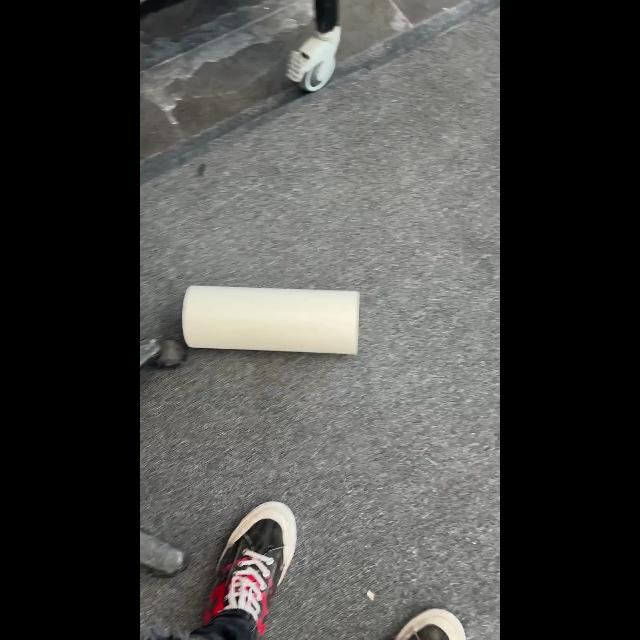CORAL: (180, 284, 360, 356)
